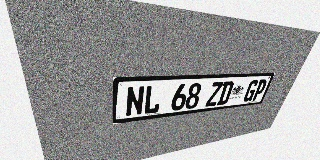6: (170, 83, 189, 111)
8: (184, 83, 203, 109)
D: (216, 81, 235, 105)
G: (242, 80, 260, 102)
L: (143, 85, 163, 115)
N: (125, 86, 145, 117)
P: (251, 79, 268, 101)
Z: (205, 82, 224, 107)
